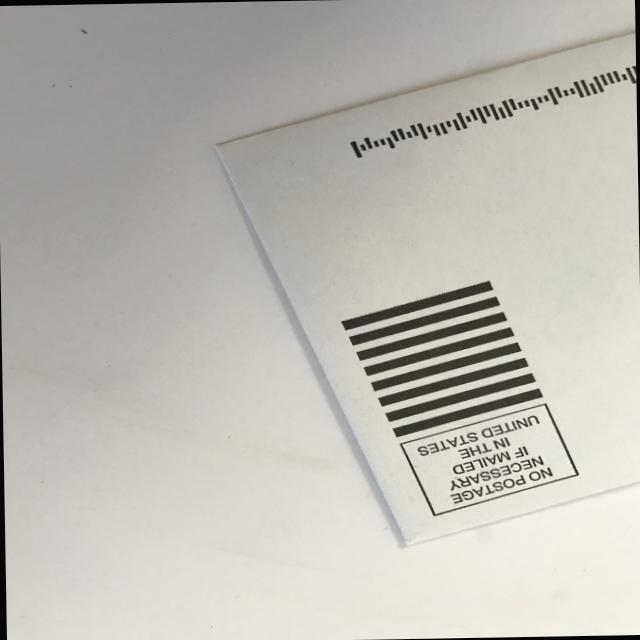Paper: (210, 30, 640, 552)
